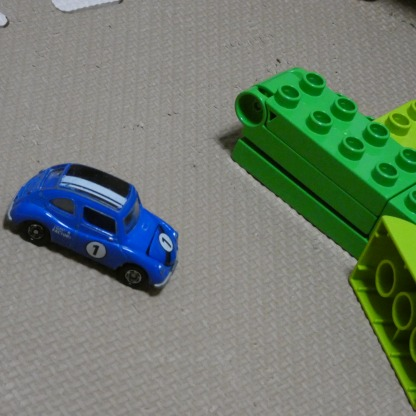car: (6, 160, 180, 295)
